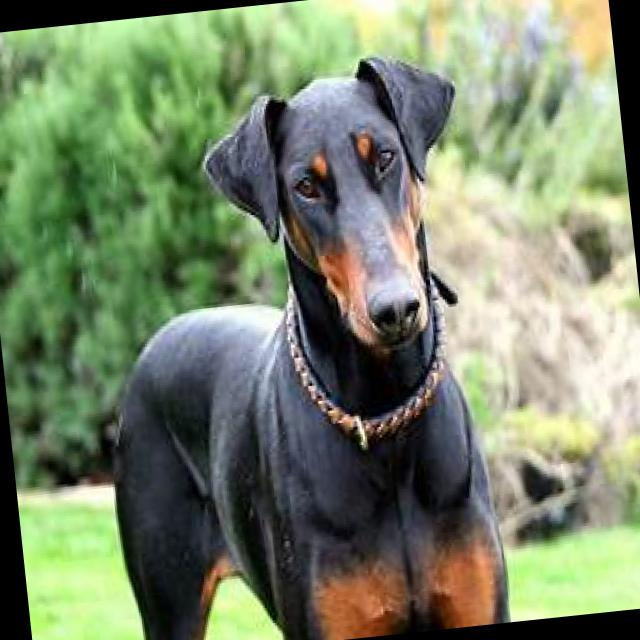dog: (69, 43, 510, 640)
